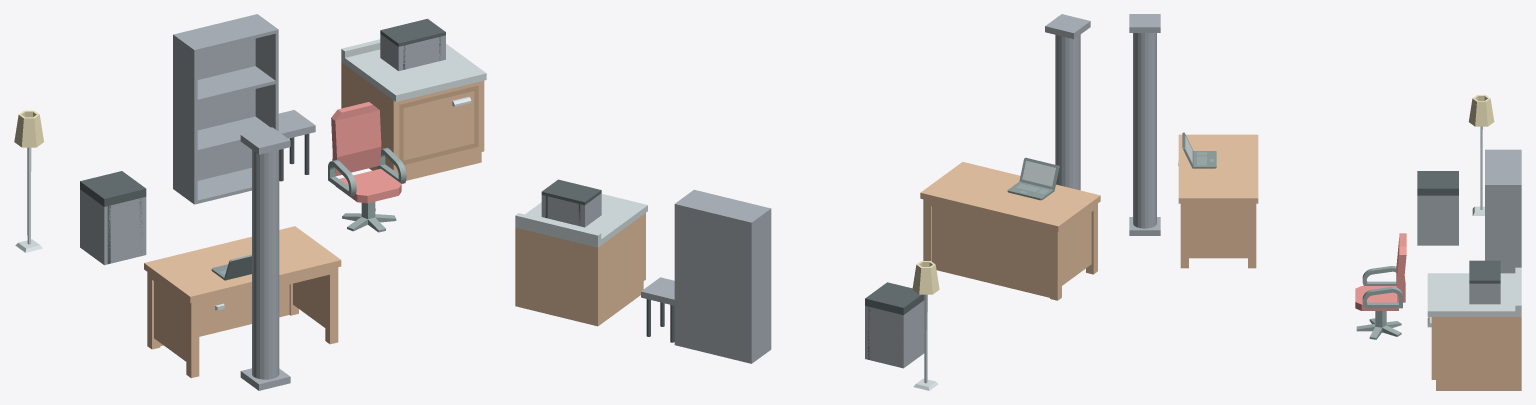
The picture shows the model from 3 angles, left to right: view 1: azimuth 30°, elevation 25°; view 2: azimuth 150°, elevation 25°; view 3: azimuth 270°, elevation 25°; orthographic projection. The views are drawn at different scales.
Visible parts, largest first — view 1: desk_blue__desk(Clone), cabinet_blue__kitchenCabinet(Clone), column_cyan__column_cyan shaft, deskchair_black__chair, shelf_orange__shelf_orange back, cabinet_blue__door, shelf_orange__shelf_orange side_l, bin_gray__bin_gray shell, shelf_orange__shelf_orange side_r, shelf_orange__shelf_orange board3, shelf_orange__shelf_orange board2, case_brown__case_brown shell (+11 smaller); view 2: desk_blue__desk(Clone), cabinet_blue__kitchenCabinet(Clone), shelf_orange__shelf_orange back, column_cyan__column_cyan shaft, shelf_orange__shelf_orange side_l, bin_gray__bin_gray shell, laptop_gray__laptop(Clone), case_brown__case_brown shell, shelf_orange__shelf_orange board3, lamp_white__lampRoundFloor(Clone), bin_gray__bin_gray lid, case_brown__case_brown lid (+3 smaller); view 3: cabinet_blue__kitchenCabinet(Clone), desk_blue__desk(Clone), column_cyan__column_cyan shaft, shelf_orange__shelf_orange side_r, bin_gray__bin_gray shell, deskchair_black__chair, shelf_orange__shelf_orange board3, lamp_white__lampRoundFloor(Clone), bin_gray__bin_gray lid, case_brown__case_brown lid, case_brown__case_brown shell, deskchair_black__chairDesk(Clone) (+3 smaller).
Boxes of the visible parts, bbox=[...] form: desk_blue__desk(Clone): bbox=[144, 226, 341, 378]; cabinet_blue__kitchenCabinet(Clone): bbox=[341, 39, 486, 180]; column_cyan__column_cyan shaft: bbox=[252, 150, 279, 379]; deskchair_black__chair: bbox=[328, 102, 406, 203]; shelf_orange__shelf_orange back: bbox=[176, 15, 255, 180]; cabinet_blue__door: bbox=[399, 85, 478, 164]; shelf_orange__shelf_orange side_l: bbox=[173, 34, 197, 204]; bin_gray__bin_gray shell: bbox=[80, 189, 146, 265]; shelf_orange__shelf_orange side_r: bbox=[254, 14, 278, 131]; shelf_orange__shelf_orange board3: bbox=[178, 15, 275, 52]; shelf_orange__shelf_orange board2: bbox=[197, 66, 275, 102]; case_brown__case_brown shell: bbox=[380, 34, 445, 70]; desk_blue__desk(Clone): bbox=[920, 162, 1100, 300]; cabinet_blue__kitchenCabinet(Clone): bbox=[515, 194, 647, 326]; shelf_orange__shelf_orange back: bbox=[677, 204, 749, 362]; column_cyan__column_cyan shaft: bbox=[1055, 34, 1080, 190]; shelf_orange__shelf_orange side_l: bbox=[748, 208, 771, 363]; bin_gray__bin_gray shell: bbox=[865, 300, 924, 368]; laptop_gray__laptop(Clone): bbox=[1007, 157, 1059, 200]; case_brown__case_brown shell: bbox=[541, 193, 601, 227]; shelf_orange__shelf_orange board3: bbox=[679, 190, 767, 220]; lamp_white__lampRoundFloor(Clone): bbox=[912, 261, 939, 390]; bin_gray__bin_gray lid: bbox=[865, 282, 924, 314]; case_brown__case_brown lid: bbox=[541, 179, 601, 205]; cabinet_blue__kitchenCabinet(Clone): bbox=[1427, 267, 1521, 390]; desk_blue__desk(Clone): bbox=[1178, 134, 1258, 268]; column_cyan__column_cyan shaft: bbox=[1133, 33, 1156, 228]; shelf_orange__shelf_orange side_r: bbox=[1485, 183, 1521, 273]; bin_gray__bin_gray shell: bbox=[1417, 195, 1458, 245]; deskchair_black__chair: bbox=[1355, 233, 1406, 310]; shelf_orange__shelf_orange board3: bbox=[1485, 151, 1519, 183]; lamp_white__lampRoundFloor(Clone): bbox=[1468, 95, 1494, 215]; bin_gray__bin_gray lid: bbox=[1417, 171, 1458, 195]; case_brown__case_brown lid: bbox=[1469, 260, 1500, 283]; case_brown__case_brown shell: bbox=[1469, 283, 1500, 304]; deskchair_black__chairDesk(Clone): bbox=[1356, 311, 1401, 339].
Size of the model in its own units: 4.18 by 2.2 by 3.75.
